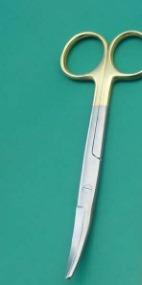Curved Mayo: (51, 27, 141, 281)
